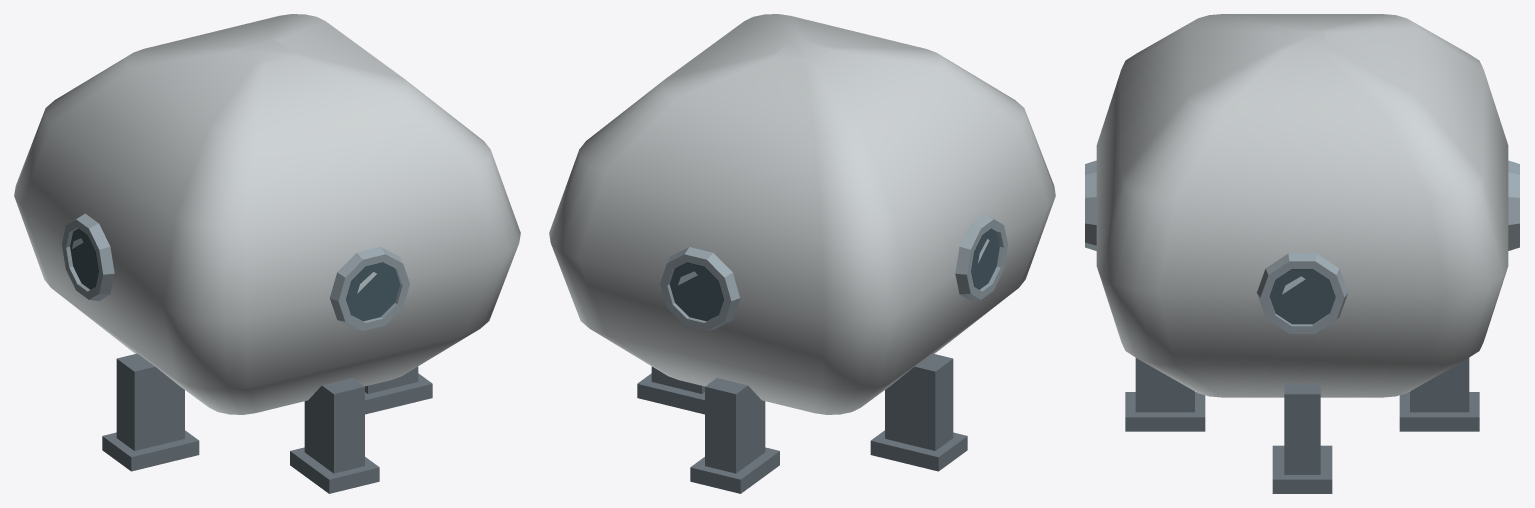
Rendered from pressure_000.glb.
The picture shows the model from 3 angles, left to right: view 1: azimuth 30°, elevation 25°; view 2: azimuth 150°, elevation 25°; view 3: azimuth 270°, elevation 25°; orthographic projection.
Parts seen in each view (by area): view 1: Pressure_Shell.045, Support.129, Support.126, Porthole_Rim.063, Gas_Window.063, Porthole_Rim.066, Window_Glass.063, Footplate.129, Footplate.126, Footplate.127, Window_Glass.066, Gas_Window.066 (+1 smaller); view 2: Pressure_Shell.045, Support.129, Support.128, Porthole_Rim.065, Porthole_Rim.066, Gas_Window.065, Window_Glass.065, Footplate.129, Footplate.128, Footplate.127, Window_Glass.066, Gas_Window.066 (+1 smaller); view 3: Pressure_Shell.045, Support.127, Porthole_Rim.064, Gas_Window.064, Window_Glass.064, Support.126, Support.128, Footplate.126, Footplate.128, Footplate.127, Porthole_Rim.063, Porthole_Rim.065.
Part boxes in pixels (bbox=[...]): Pressure_Shell.045: bbox=[14, 14, 520, 414]; Support.129: bbox=[116, 353, 184, 450]; Support.126: bbox=[304, 378, 364, 473]; Porthole_Rim.063: bbox=[330, 247, 409, 330]; Gas_Window.063: bbox=[346, 262, 400, 321]; Porthole_Rim.066: bbox=[62, 213, 114, 300]; Window_Glass.063: bbox=[347, 263, 401, 321]; Footplate.129: bbox=[102, 430, 199, 471]; Footplate.126: bbox=[290, 447, 379, 493]; Footplate.127: bbox=[365, 373, 432, 414]; Window_Glass.066: bbox=[66, 229, 97, 290]; Gas_Window.066: bbox=[70, 228, 98, 289]; Pressure_Shell.045: bbox=[549, 14, 1055, 414]; Support.129: bbox=[885, 353, 953, 450]; Support.128: bbox=[705, 378, 765, 473]; Porthole_Rim.065: bbox=[660, 247, 739, 330]; Porthole_Rim.066: bbox=[955, 213, 1007, 300]; Gas_Window.065: bbox=[669, 262, 723, 321]; Window_Glass.065: bbox=[668, 263, 722, 321]; Footplate.129: bbox=[870, 430, 967, 471]; Footplate.128: bbox=[690, 447, 779, 493]; Footplate.127: bbox=[637, 373, 704, 414]; Window_Glass.066: bbox=[972, 229, 1003, 290]; Gas_Window.066: bbox=[971, 228, 999, 289]; Pressure_Shell.045: bbox=[1096, 14, 1508, 397]; Support.127: bbox=[1284, 384, 1320, 474]; Porthole_Rim.064: bbox=[1257, 253, 1347, 333]; Gas_Window.064: bbox=[1269, 269, 1335, 324]; Window_Glass.064: bbox=[1270, 270, 1334, 325]; Support.126: bbox=[1135, 358, 1194, 412]; Support.128: bbox=[1410, 358, 1469, 412]; Footplate.126: bbox=[1125, 392, 1205, 431]; Footplate.128: bbox=[1399, 392, 1479, 431]; Footplate.127: bbox=[1272, 445, 1332, 493]; Porthole_Rim.063: bbox=[1085, 160, 1096, 250]; Porthole_Rim.065: bbox=[1508, 160, 1519, 250].
Bounding box in the file's own units: 1.91 × 1.83 × 1.91.
